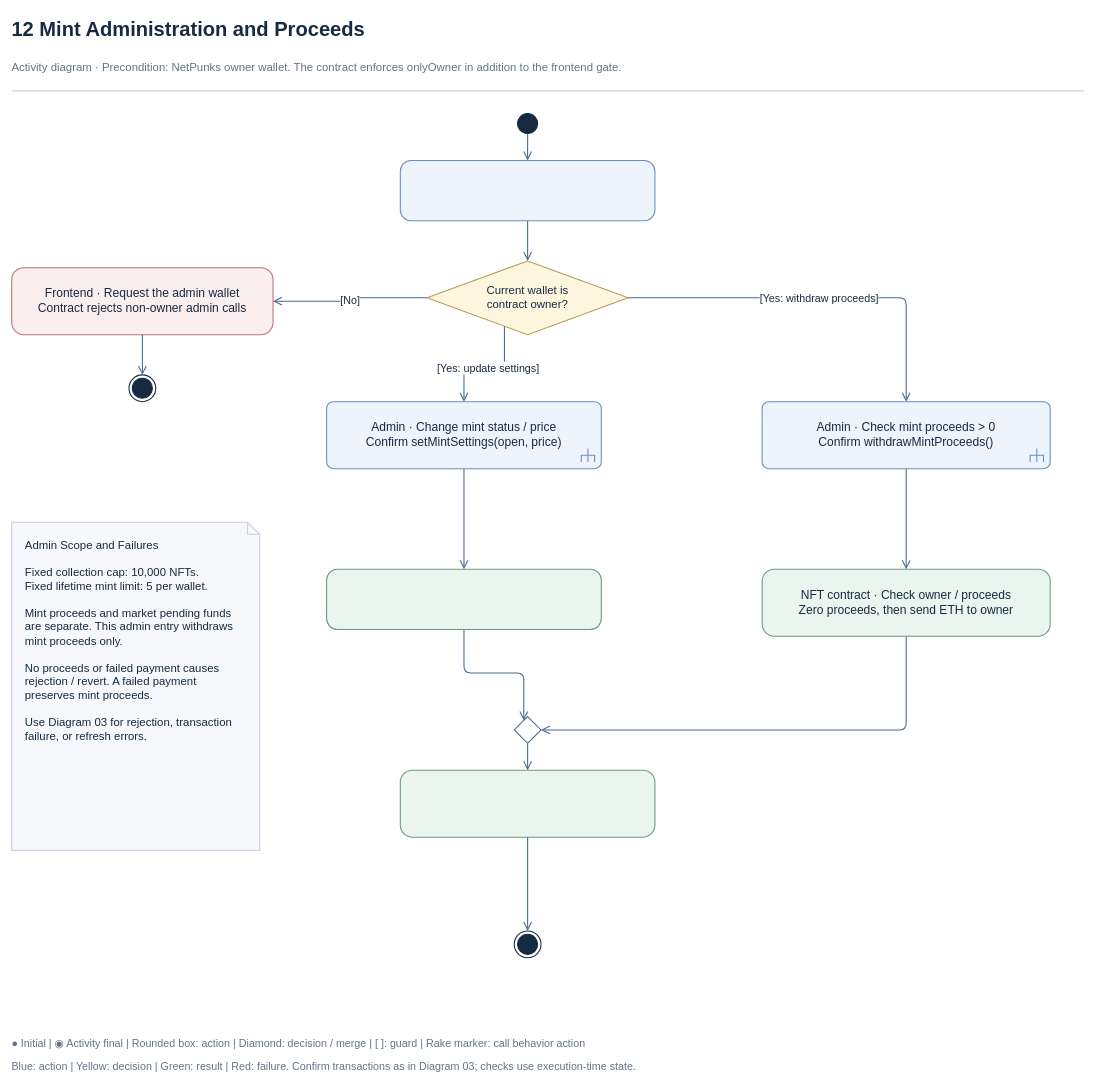
The diagram is 1095 pixels wide and 1086 high, and some of its shapes have lost their labels. Here are the shapes that lost their labels. From the top down, the centre of each, then its label:
At [527,190]: "Admin · Open issuance management Read mint status, price, and proceeds".
At [464,599]: "NFT contract · Recheck owner Update mint availability and price".
At [527,803]: "Frontend · Refresh settings / balances New status / price applies to later mints".
